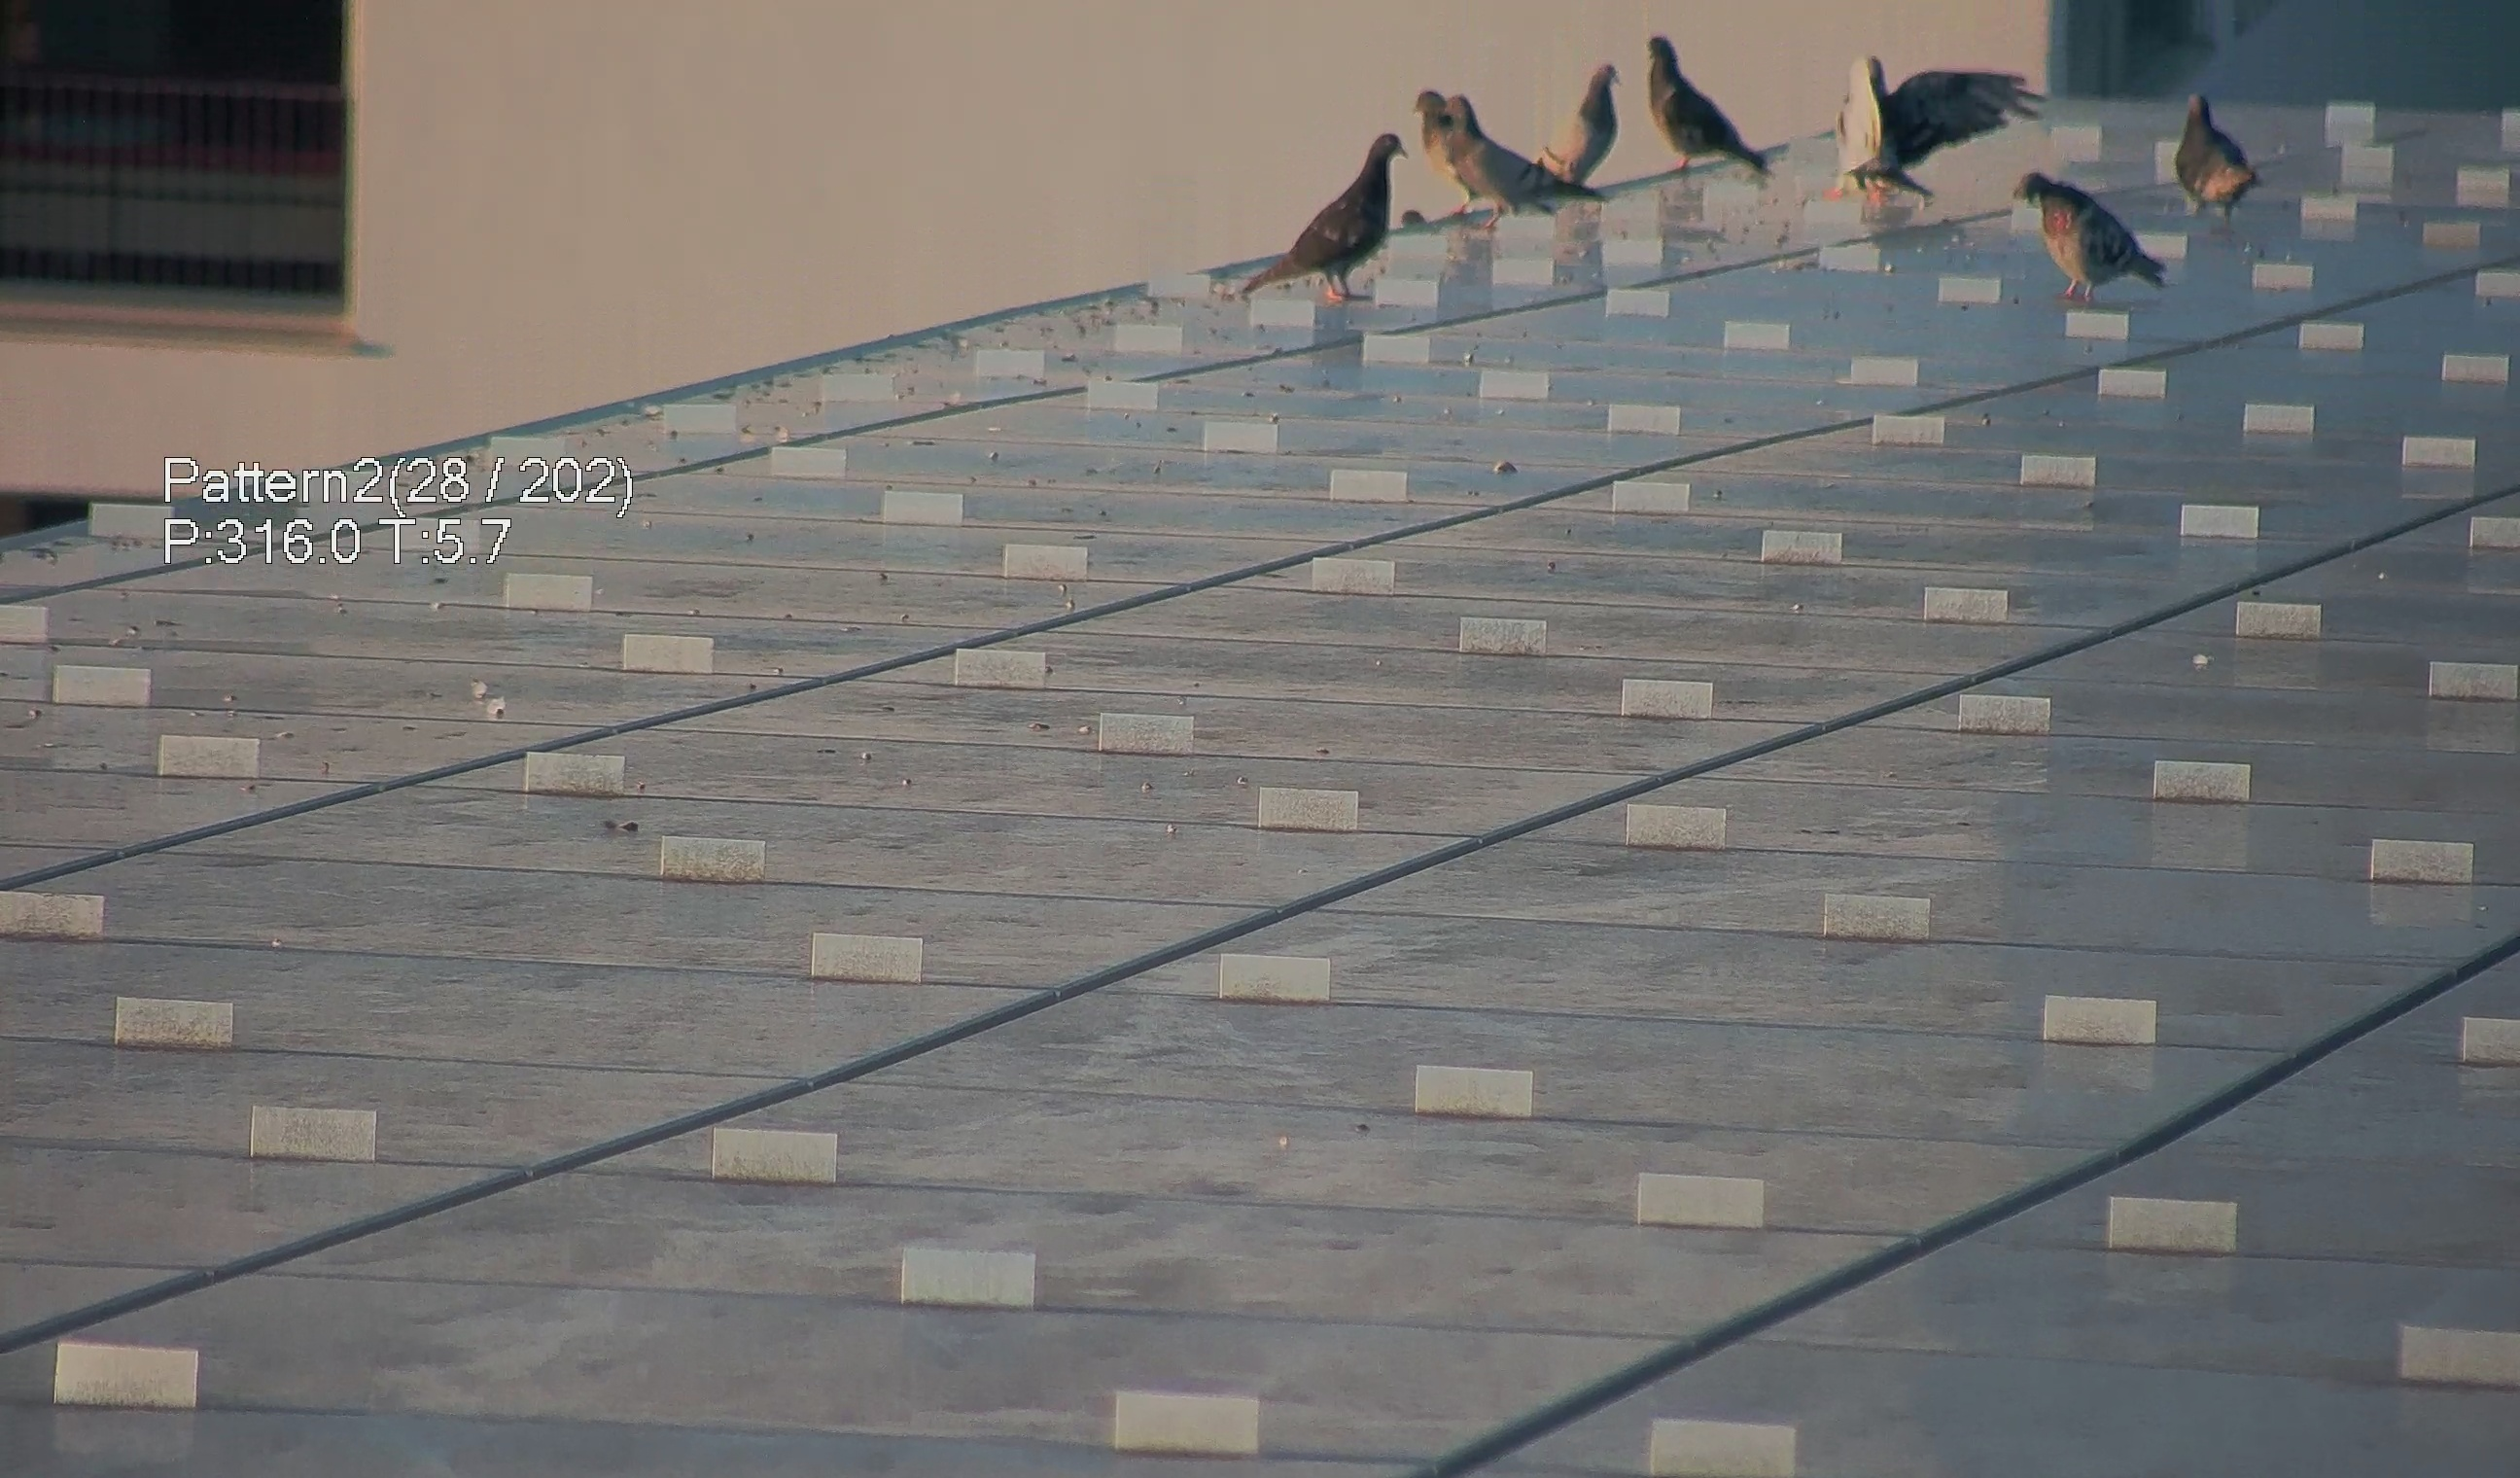Pigeon: (1836, 49, 2049, 201), (1245, 116, 1414, 297), (2019, 151, 2191, 308), (1412, 72, 1599, 216), (1642, 23, 1787, 183), (2170, 83, 2272, 227), (1551, 53, 1635, 187)
